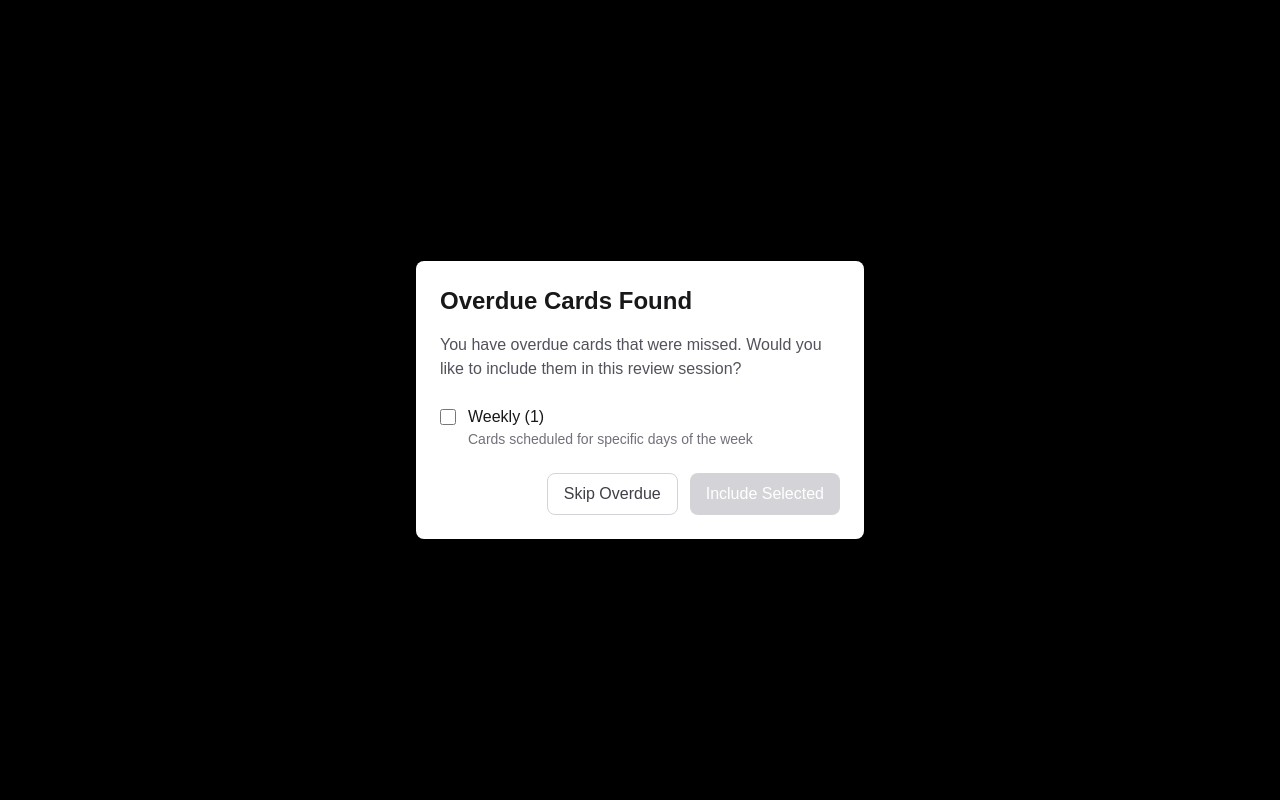
it: Review Page › Overdue Cards Modal › should close modal when "Skip Overdue" is clicked
Check: the heading "Overdue Cards Found" is shown, box [440,287,692,314]
Click the button "Skip Overdue": (612, 494) [547,473,678,515]
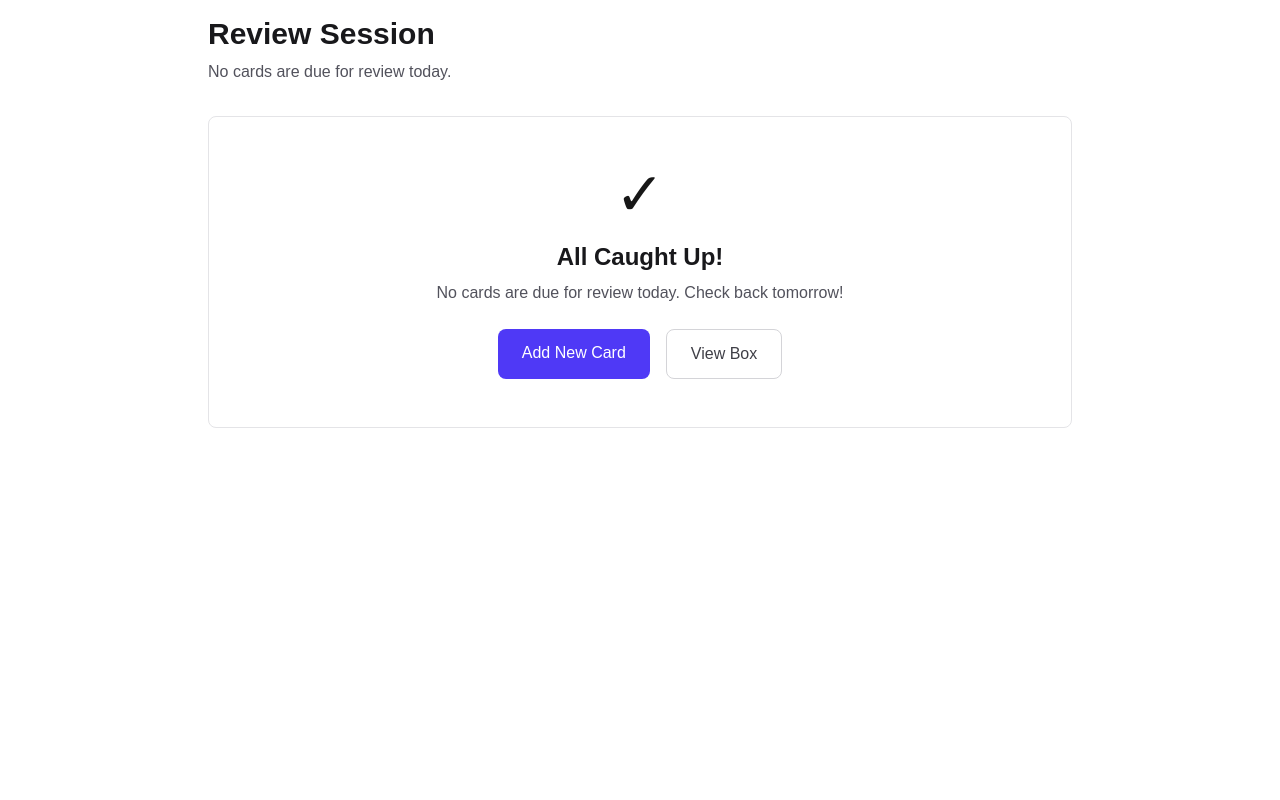
Check: the heading "Overdue Cards Found" is gone
